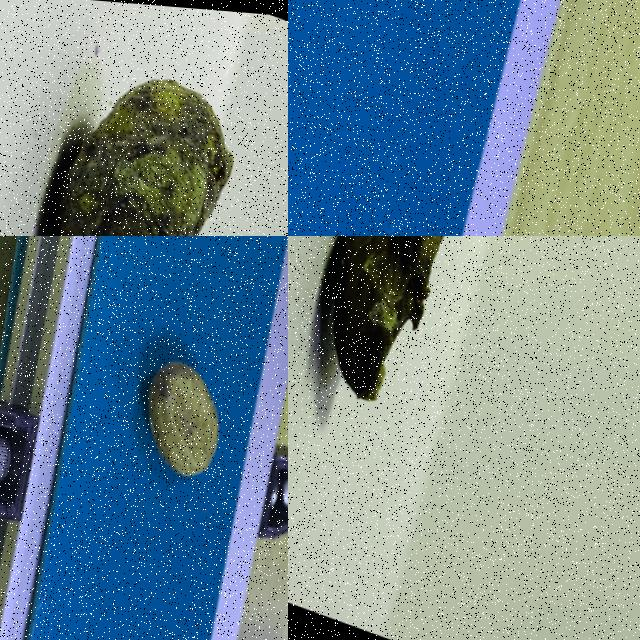Agglomerated_cocoabeans: (0, 0, 287, 235)
Fine_cocoabeans: (73, 258, 279, 553)
Flat_cocoabeans: (288, 236, 502, 467)
